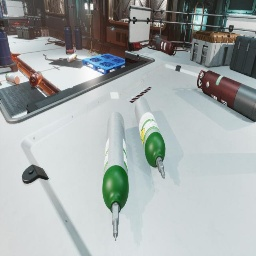0: (102, 112, 129, 241), (135, 97, 165, 180), (5, 73, 20, 84), (67, 53, 78, 63)
EmergencyPhone ,: (41, 11, 44, 16)
FireExtinguisher ]: (128, 42, 142, 52), (66, 50, 76, 54)
NitrogenTank ,: (197, 70, 256, 122), (155, 38, 177, 56), (29, 71, 43, 86), (2, 11, 3, 14)
SafetySwitchPanel ,: (37, 9, 41, 17), (93, 0, 97, 4)
